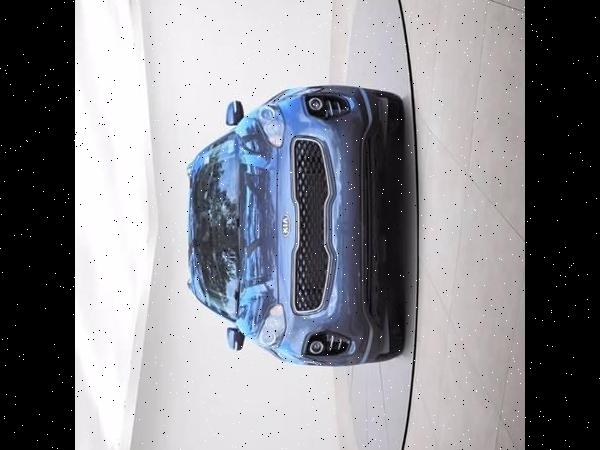Front_Bumper: (272, 85, 393, 366)
Front_Windshield: (187, 131, 241, 316)
Grille: (291, 136, 335, 317)
Hood: (236, 108, 299, 341)
Left_Headlight: (257, 101, 285, 147)
Left_Mirror: (225, 98, 243, 124)
Right_Headlight: (258, 302, 287, 349)
Right_Mirror: (226, 325, 243, 350)
